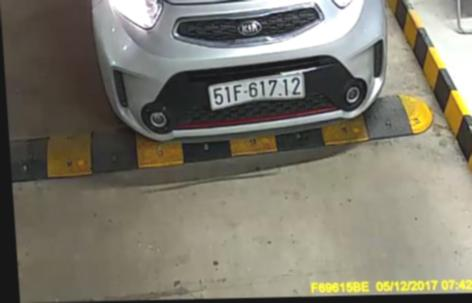License_Plate: (203, 75, 313, 111)
